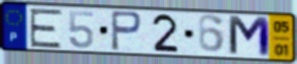2: (151, 13, 181, 54)
5: (67, 10, 95, 50)
6: (197, 13, 226, 58)
E: (28, 8, 64, 49)
M: (226, 14, 273, 59)
P: (109, 9, 144, 53)
